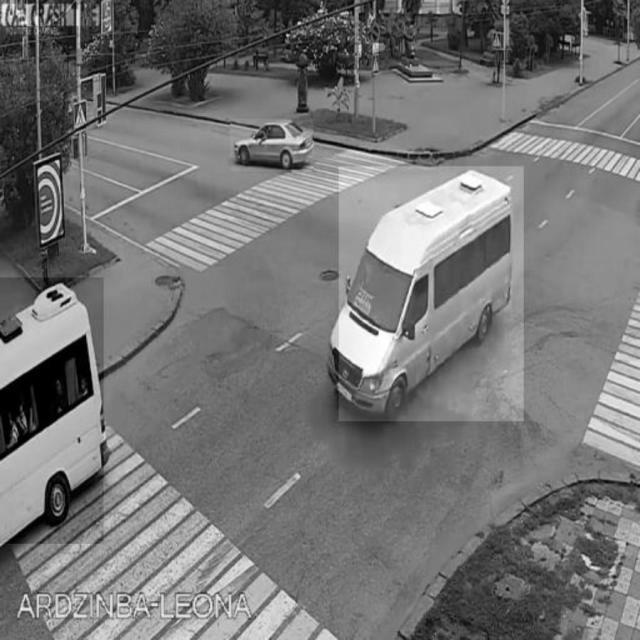vehicle: (339, 166, 524, 420), (1, 278, 104, 544), (230, 120, 313, 172)
